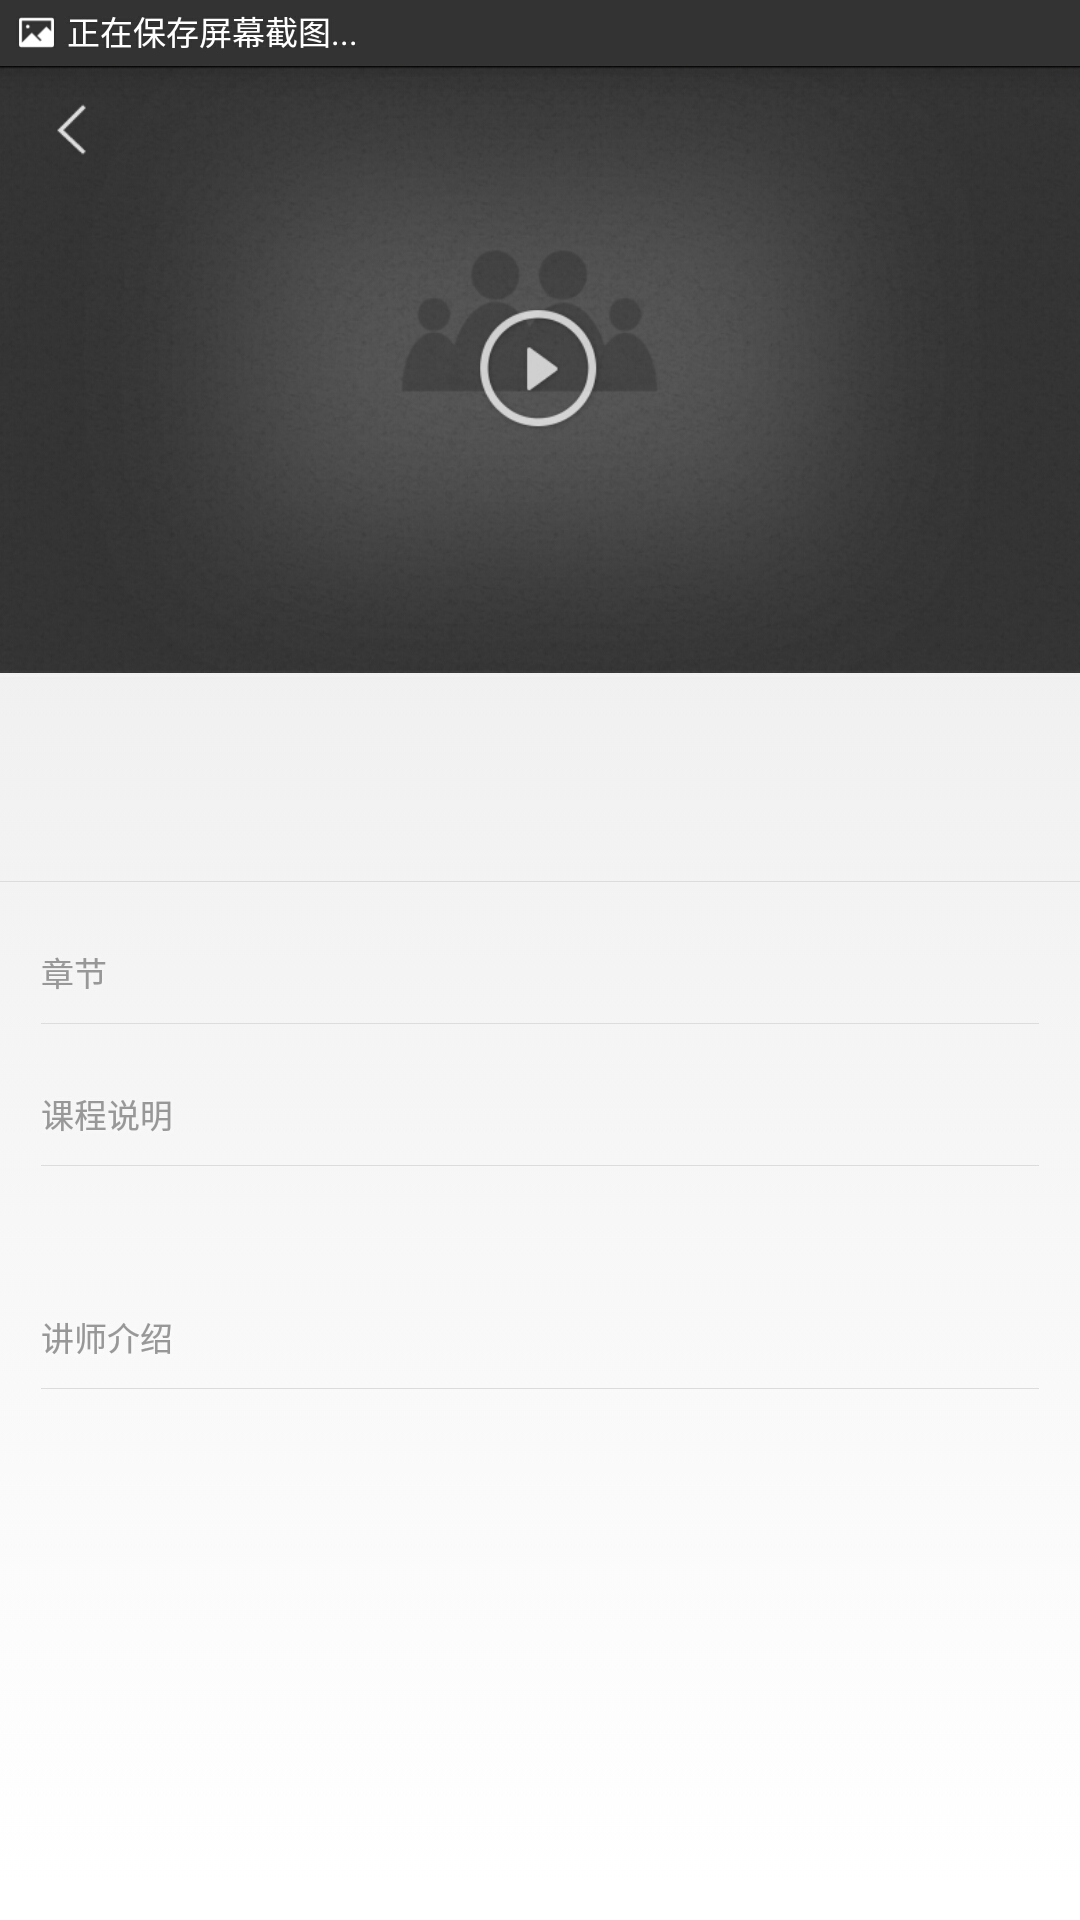imgbutton: (469, 301, 603, 439)
textview: (15, 865, 1080, 1185)
